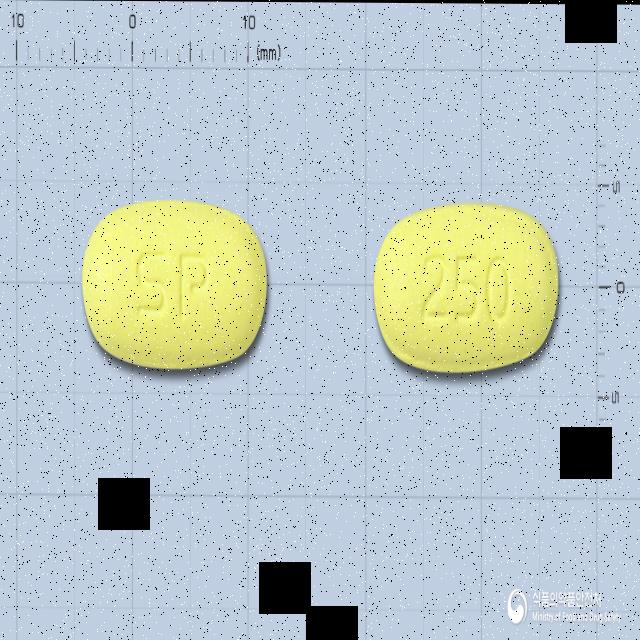Cephamethyl Cap: (82, 196, 268, 371), (374, 198, 560, 373)
